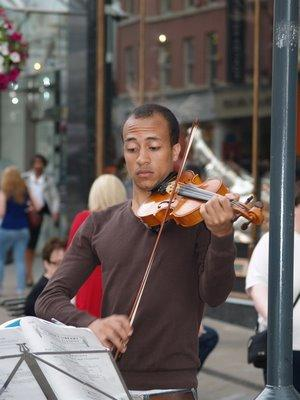person: (34, 105, 241, 400)
